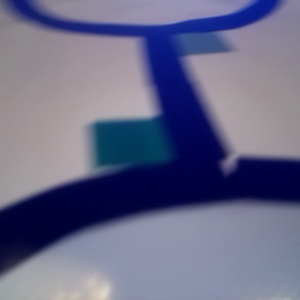bottom_right: (149, 26, 230, 56)
top_left: (95, 119, 207, 203)
